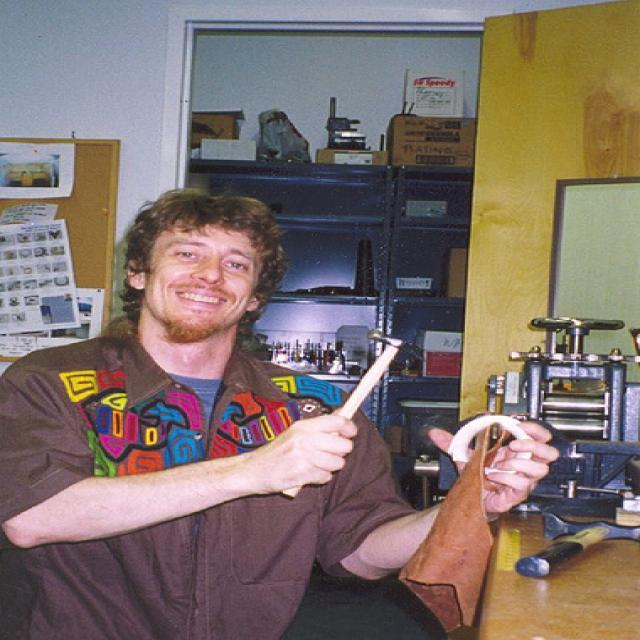hammer: (274, 324, 434, 504), (510, 500, 640, 589)
